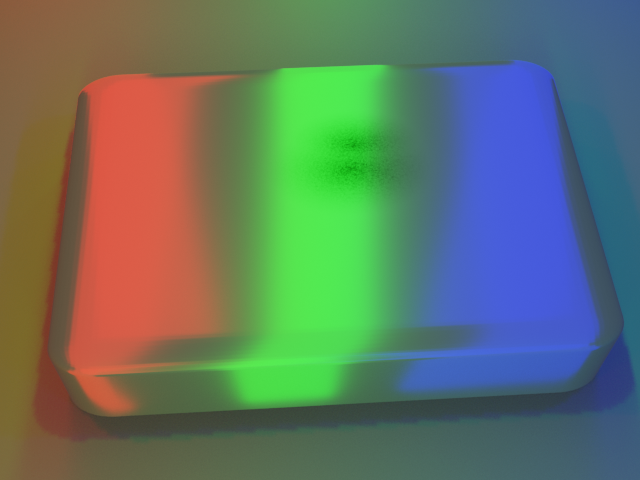stain: (218, 83, 457, 213)
